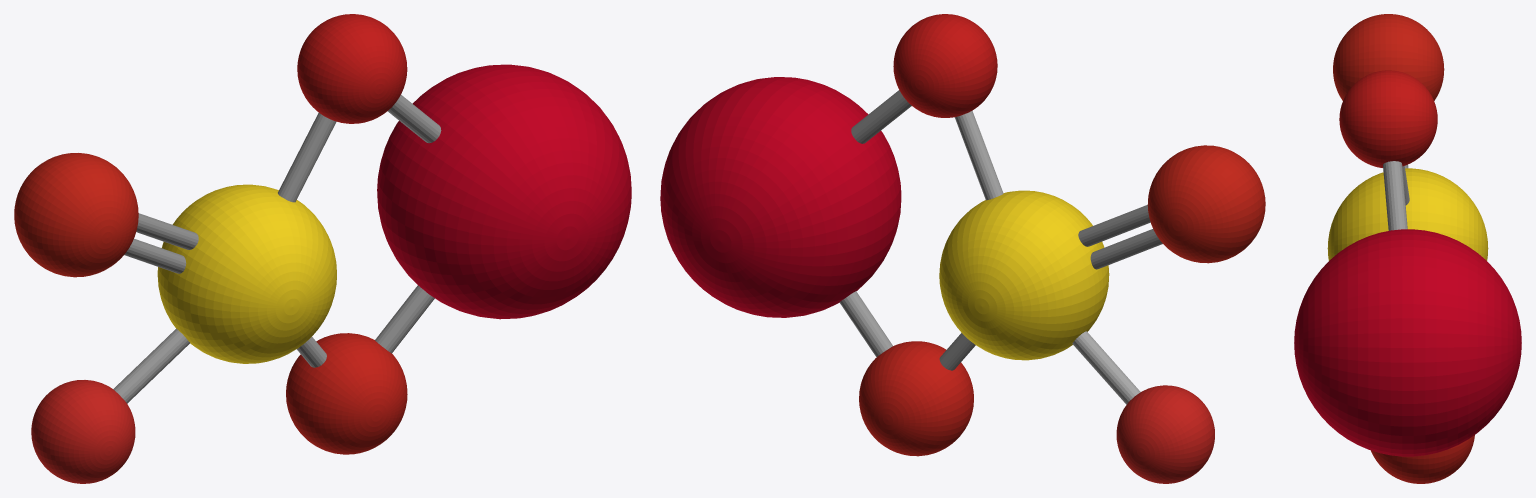
The model's file is copper_sulfate.glb.
The picture shows the model from 3 angles, left to right: view 1: azimuth 30°, elevation 25°; view 2: azimuth 150°, elevation 25°; view 3: azimuth 270°, elevation 25°; orthographic projection. The views are drawn at different scales.
Parts seen in each view (by area): view 1: Copper, Sulfur, Oxygen_1, Oxygen_3, Oxygen_2, Oxygen_4, S-O2, S-O4, Cu-O3, S-O1a, Cu-O2, S-O1b; view 2: Copper, Sulfur, Oxygen_1, Oxygen_3, Oxygen_2, Oxygen_4, S-O2, S-O4, Cu-O3, S-O1a, Cu-O2, S-O1b (+1 smaller); view 3: Copper, Oxygen_2, Sulfur, Oxygen_1, Oxygen_3, Cu-O2.
Boxes of the visible parts, bbox=[...] form: Copper: bbox=[377, 64, 631, 319]; Sulfur: bbox=[157, 184, 336, 363]; Oxygen_1: bbox=[14, 153, 138, 277]; Oxygen_3: bbox=[286, 333, 407, 454]; Oxygen_2: bbox=[297, 14, 407, 123]; Oxygen_4: bbox=[31, 380, 135, 483]; S-O2: bbox=[278, 113, 336, 202]; S-O4: bbox=[113, 328, 189, 403]; Cu-O3: bbox=[375, 285, 434, 353]; S-O1a: bbox=[136, 213, 198, 249]; Cu-O2: bbox=[387, 95, 441, 143]; S-O1b: bbox=[124, 238, 186, 273]; Copper: bbox=[660, 77, 901, 317]; Sulfur: bbox=[939, 190, 1109, 360]; Oxygen_1: bbox=[1147, 145, 1265, 263]; Oxygen_3: bbox=[859, 341, 973, 456]; Oxygen_2: bbox=[893, 14, 997, 117]; Oxygen_4: bbox=[1116, 385, 1214, 483]; S-O2: bbox=[955, 110, 1003, 200]; S-O4: bbox=[1072, 331, 1140, 404]; Cu-O3: bbox=[839, 291, 892, 357]; S-O1a: bbox=[1078, 205, 1150, 246]; Cu-O2: bbox=[851, 90, 911, 143]; S-O1b: bbox=[1090, 229, 1162, 269]; Copper: bbox=[1294, 229, 1521, 456]; Oxygen_2: bbox=[1339, 70, 1437, 167]; Sulfur: bbox=[1327, 168, 1488, 260]; Oxygen_1: bbox=[1333, 14, 1444, 100]; Oxygen_3: bbox=[1371, 435, 1474, 483]; Cu-O2: bbox=[1383, 161, 1407, 230].
Bounding box in the file's own units: 4.81 × 3.4 × 1.76.
